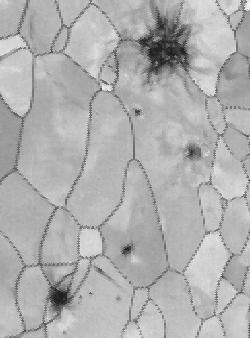good_void: (123, 27, 200, 90), (44, 282, 78, 321), (176, 139, 210, 164), (119, 238, 139, 265), (93, 265, 114, 283), (131, 107, 146, 119), (113, 294, 123, 303), (62, 327, 70, 336), (88, 289, 95, 296), (78, 293, 82, 299)
